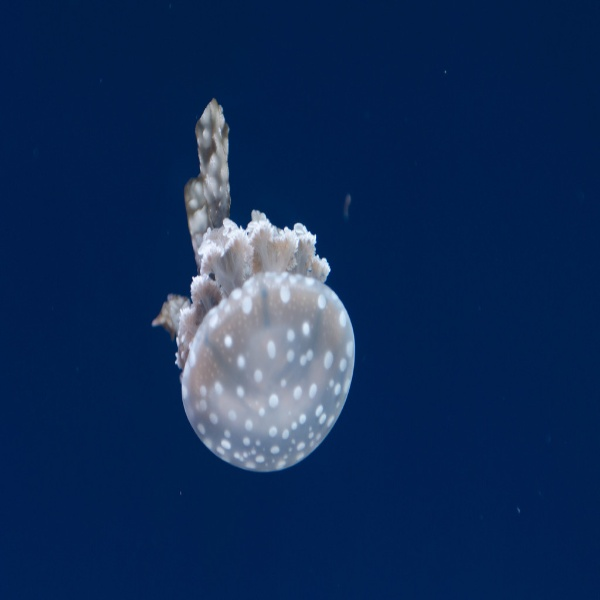Jellyfish: (151, 96, 354, 488)
